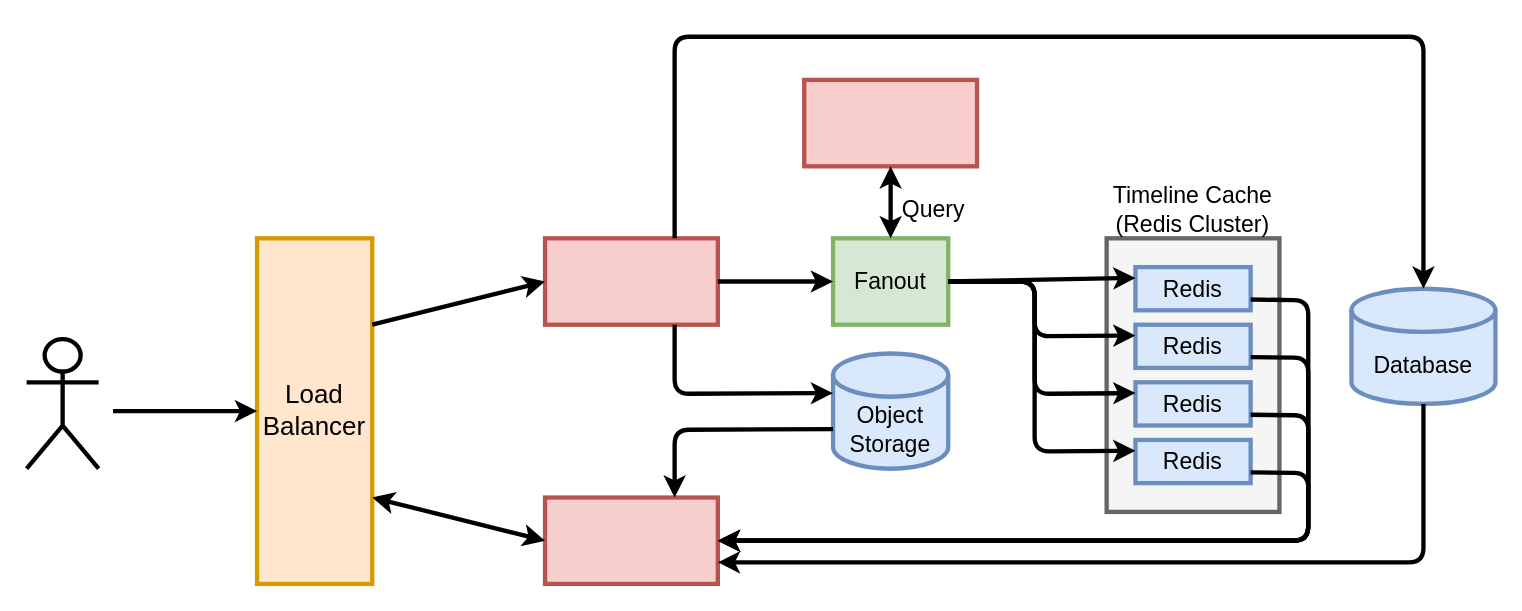
The diagram is 1522 pixels wide and 611 high, and some of its shapes have lost their labels. The centre of each missing label's shape, as x and y in pixels:
Social Graph Service: (889,122)
Timeline Service: (630,540)
Tweet Service (Write API): (630,280)
